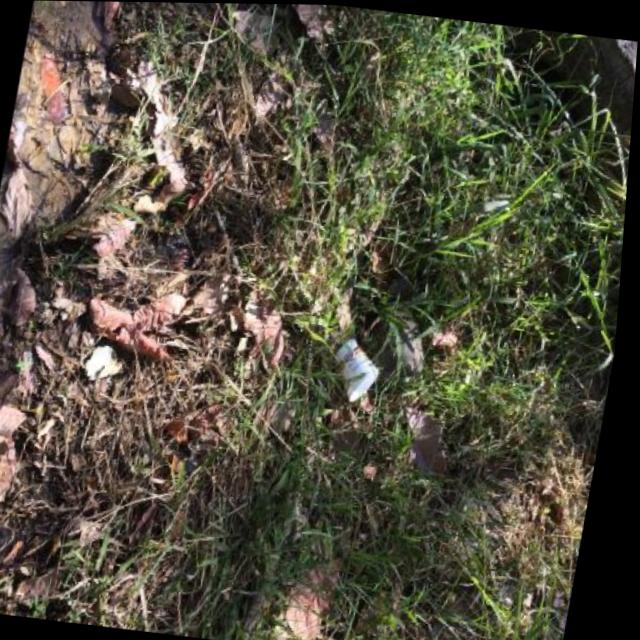cardboard: (324, 336, 382, 403)
